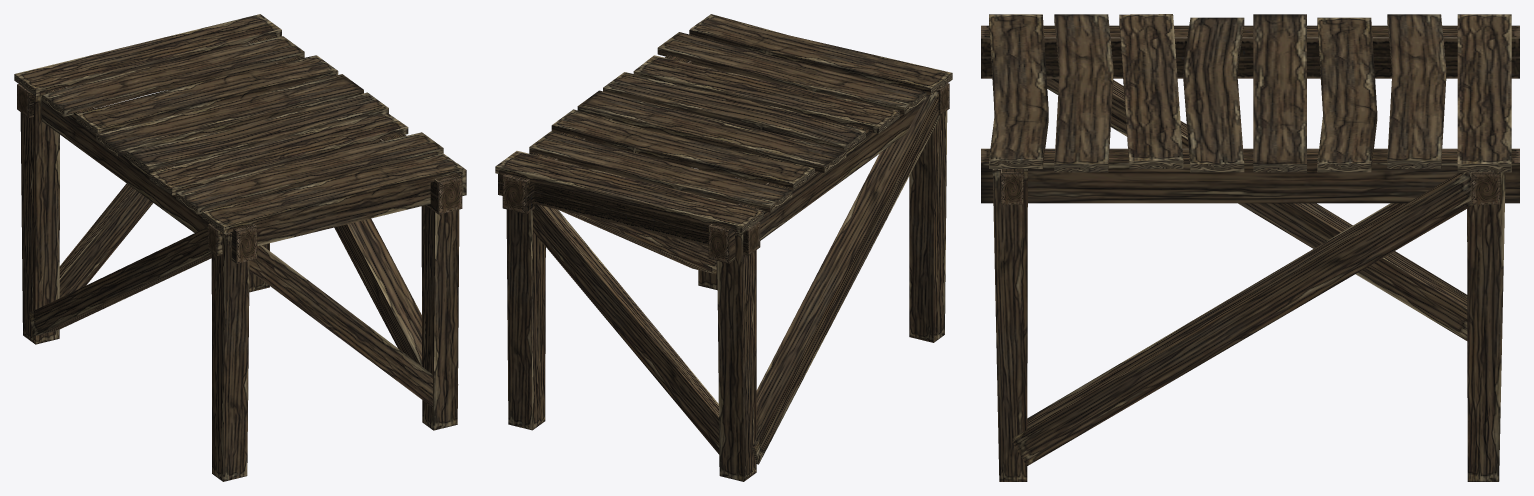
Rendered from Wood_4X4X6_01.fbx.
3 renders of one model, left to right at view 1: azimuth 30°, elevation 25°; view 2: azimuth 150°, elevation 25°; view 3: azimuth 270°, elevation 25°, orthographic. The views are drawn at different scales.
Parts seen in each view (by area): view 1: Wood_4X4X6_01; view 2: Wood_4X4X6_01; view 3: Wood_4X4X6_01.
Part boxes in pixels (x1,y1,x2,y2): Wood_4X4X6_01: (14, 14, 466, 481); Wood_4X4X6_01: (495, 14, 952, 481); Wood_4X4X6_01: (981, 14, 1519, 481).
Bounding box in the file's own units: 4 × 3.97 × 6.
